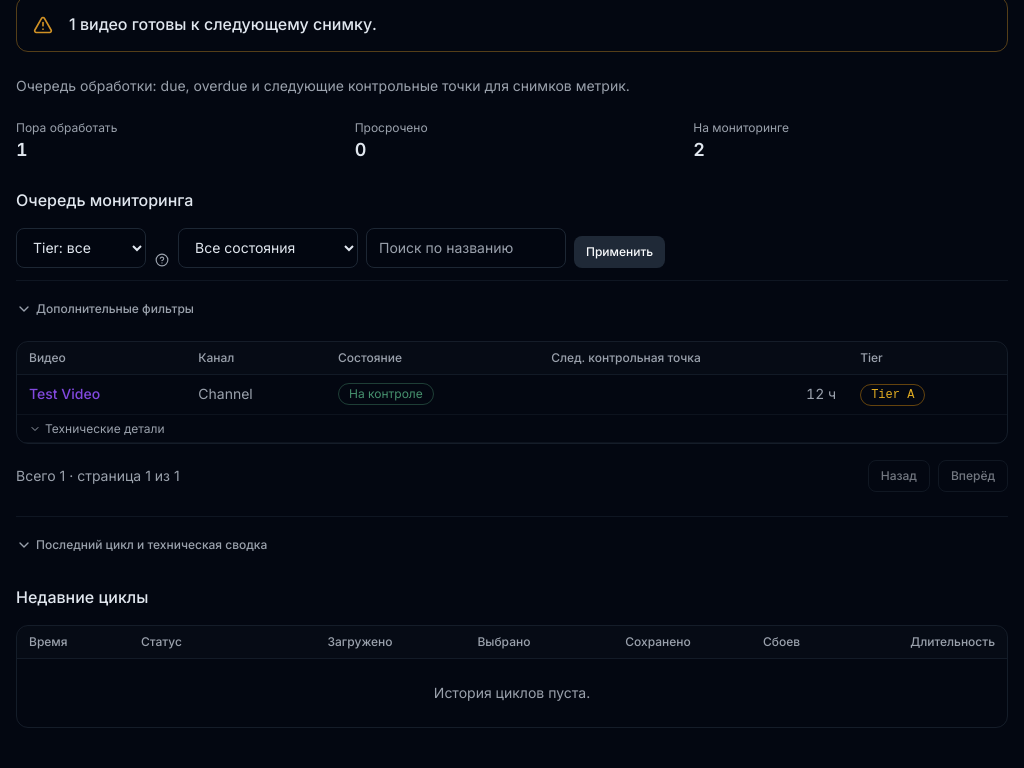
Scenario: MonitoringDashboard › shows empty latest cycle in disclosure
The width and height of the screenshot is (1024, 768).
(page scrolled)
Click the button "Последний цикл и техническая сводка": (142, 545) [16,529,267,561]
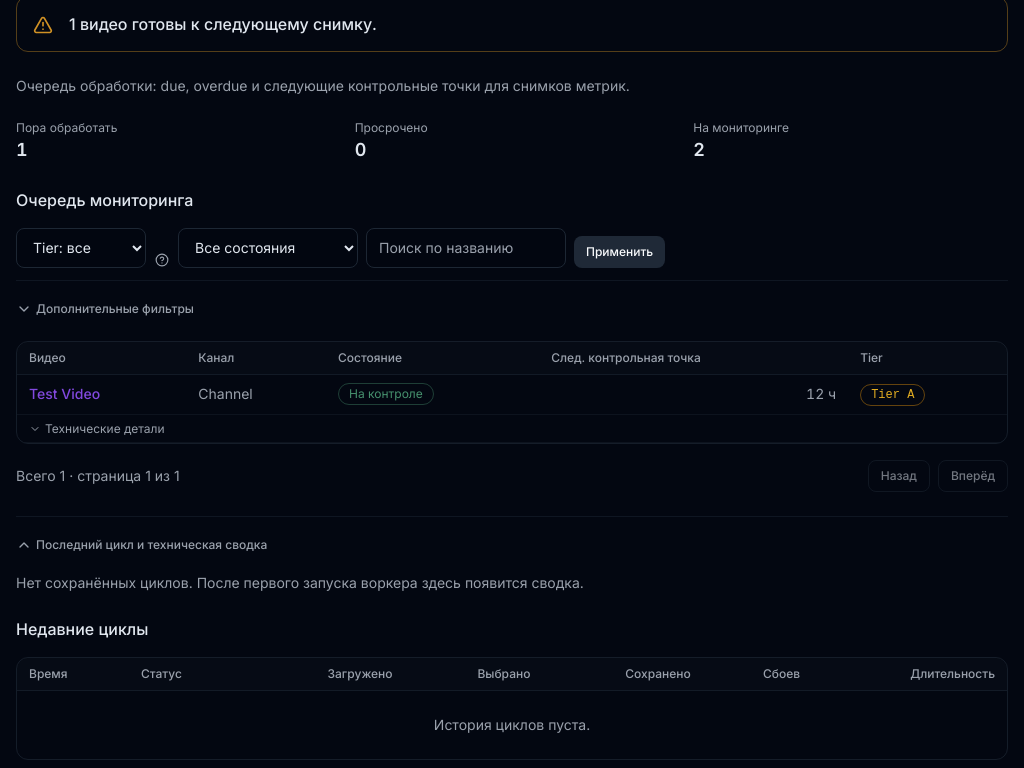
Check: the text with test id "monitoring-no-cycles" is shown, box [16,574,584,591]
